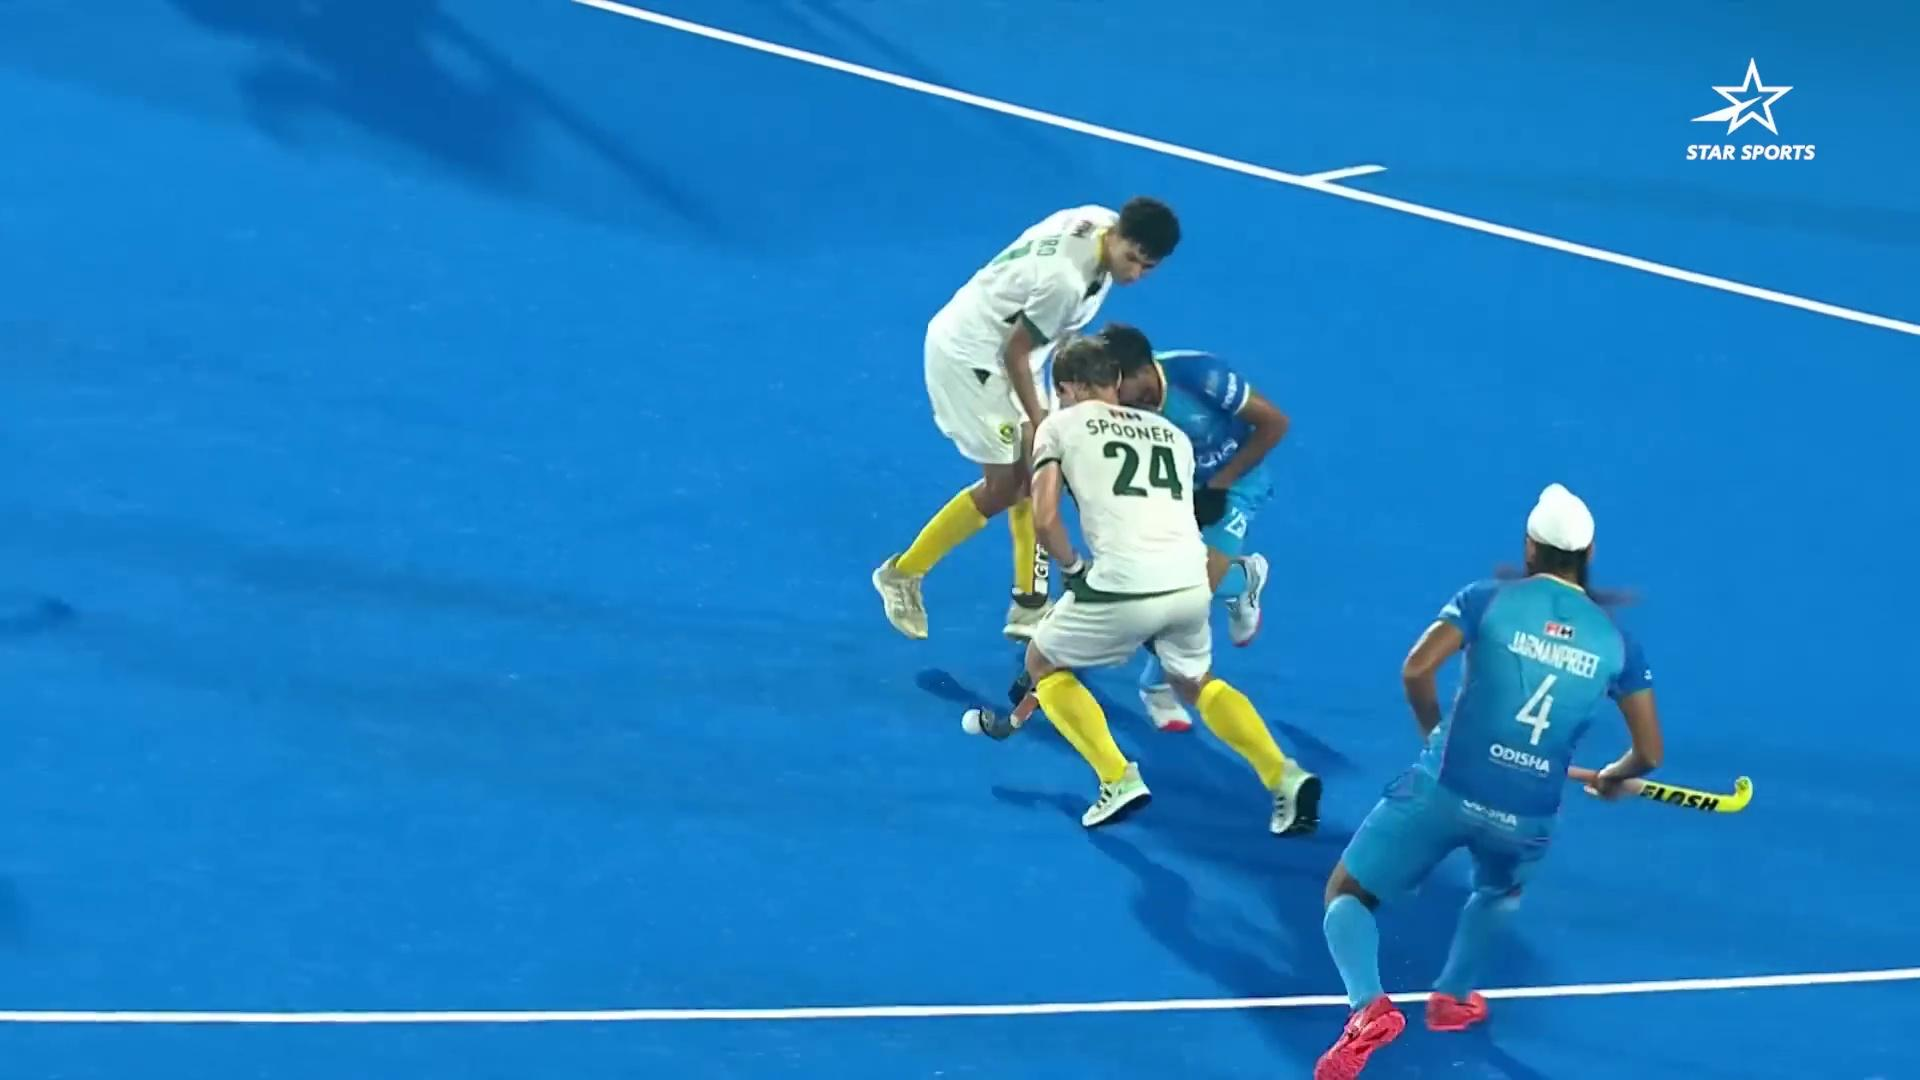ball: (943, 684, 1034, 762)
